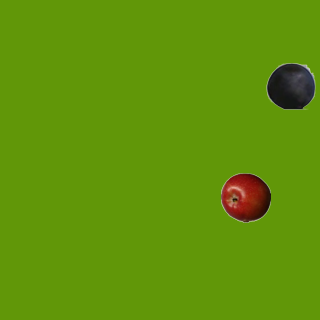Apple Braeburn: (220, 172, 270, 222)
Grape Blue: (265, 60, 315, 110)
